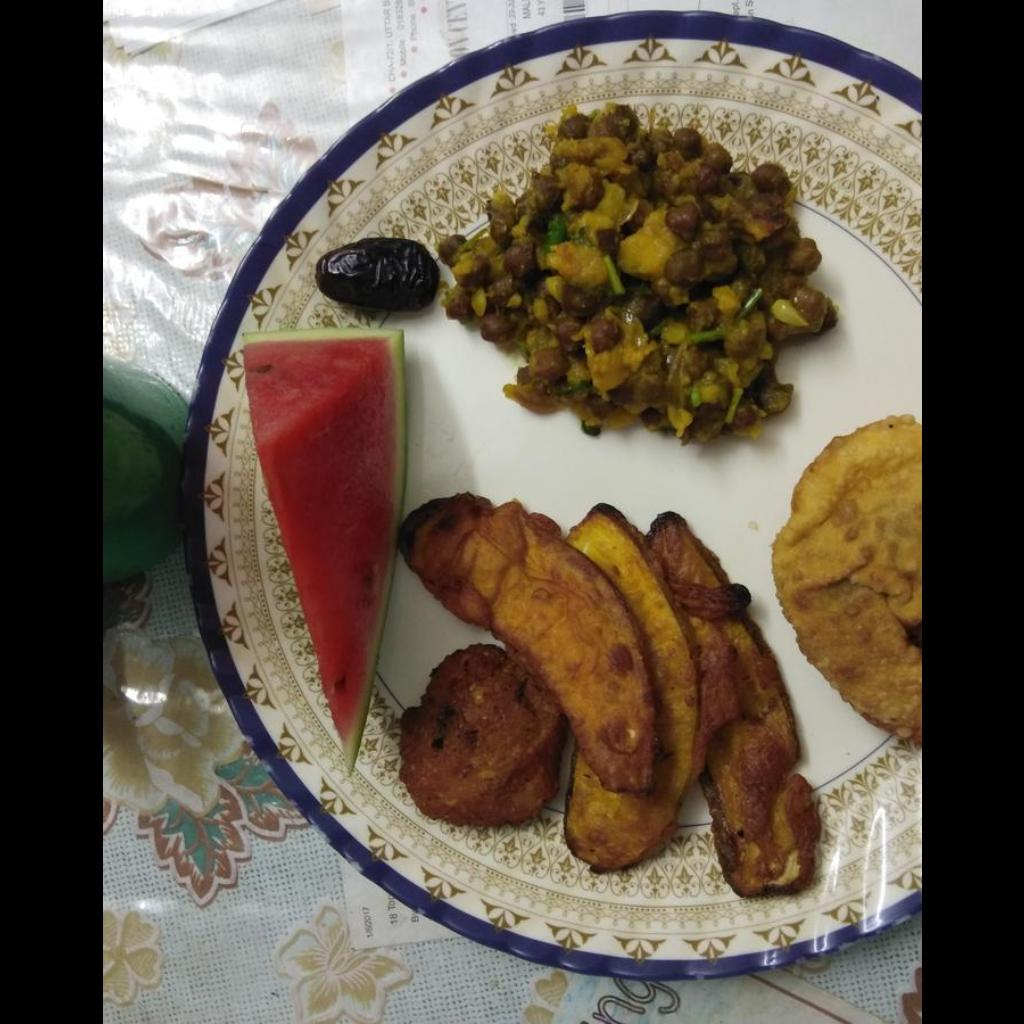beguni: (412, 496, 827, 899)
chola: (450, 104, 839, 432)
dates: (322, 234, 441, 311)
peyaju: (404, 648, 559, 822)
puri: (771, 415, 920, 744)
vegetable: (245, 332, 406, 779)
